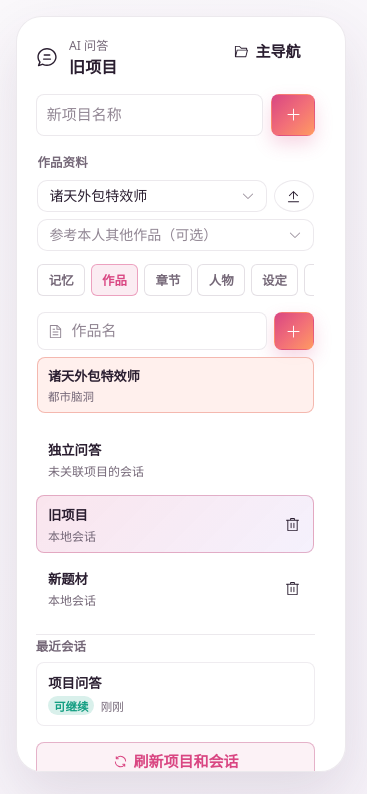
it: KnowledgeProjectSpace › keeps unassigned conversations reachable when projects exist
Expected: the button with test id "knowledge-conversation-conv-project" is shown, [36, 662, 315, 726]
Click the button with test id "knowledge-project-unassigned".
click(152, 460)  # box [37, 431, 267, 488]
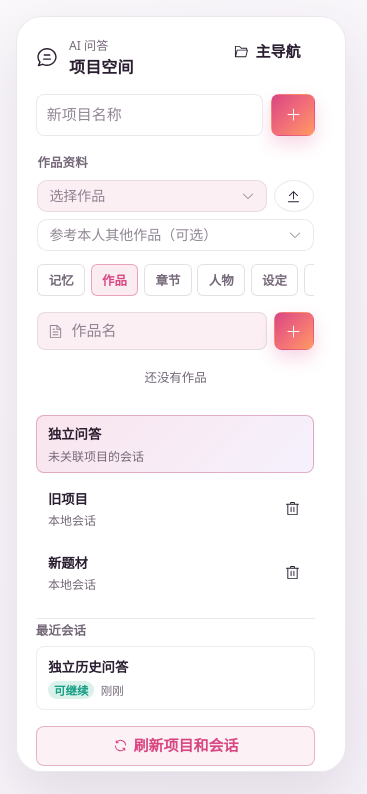
Expected: the button with test id "knowledge-conversation-conv-unassigned" is shown, [36, 646, 315, 710]
